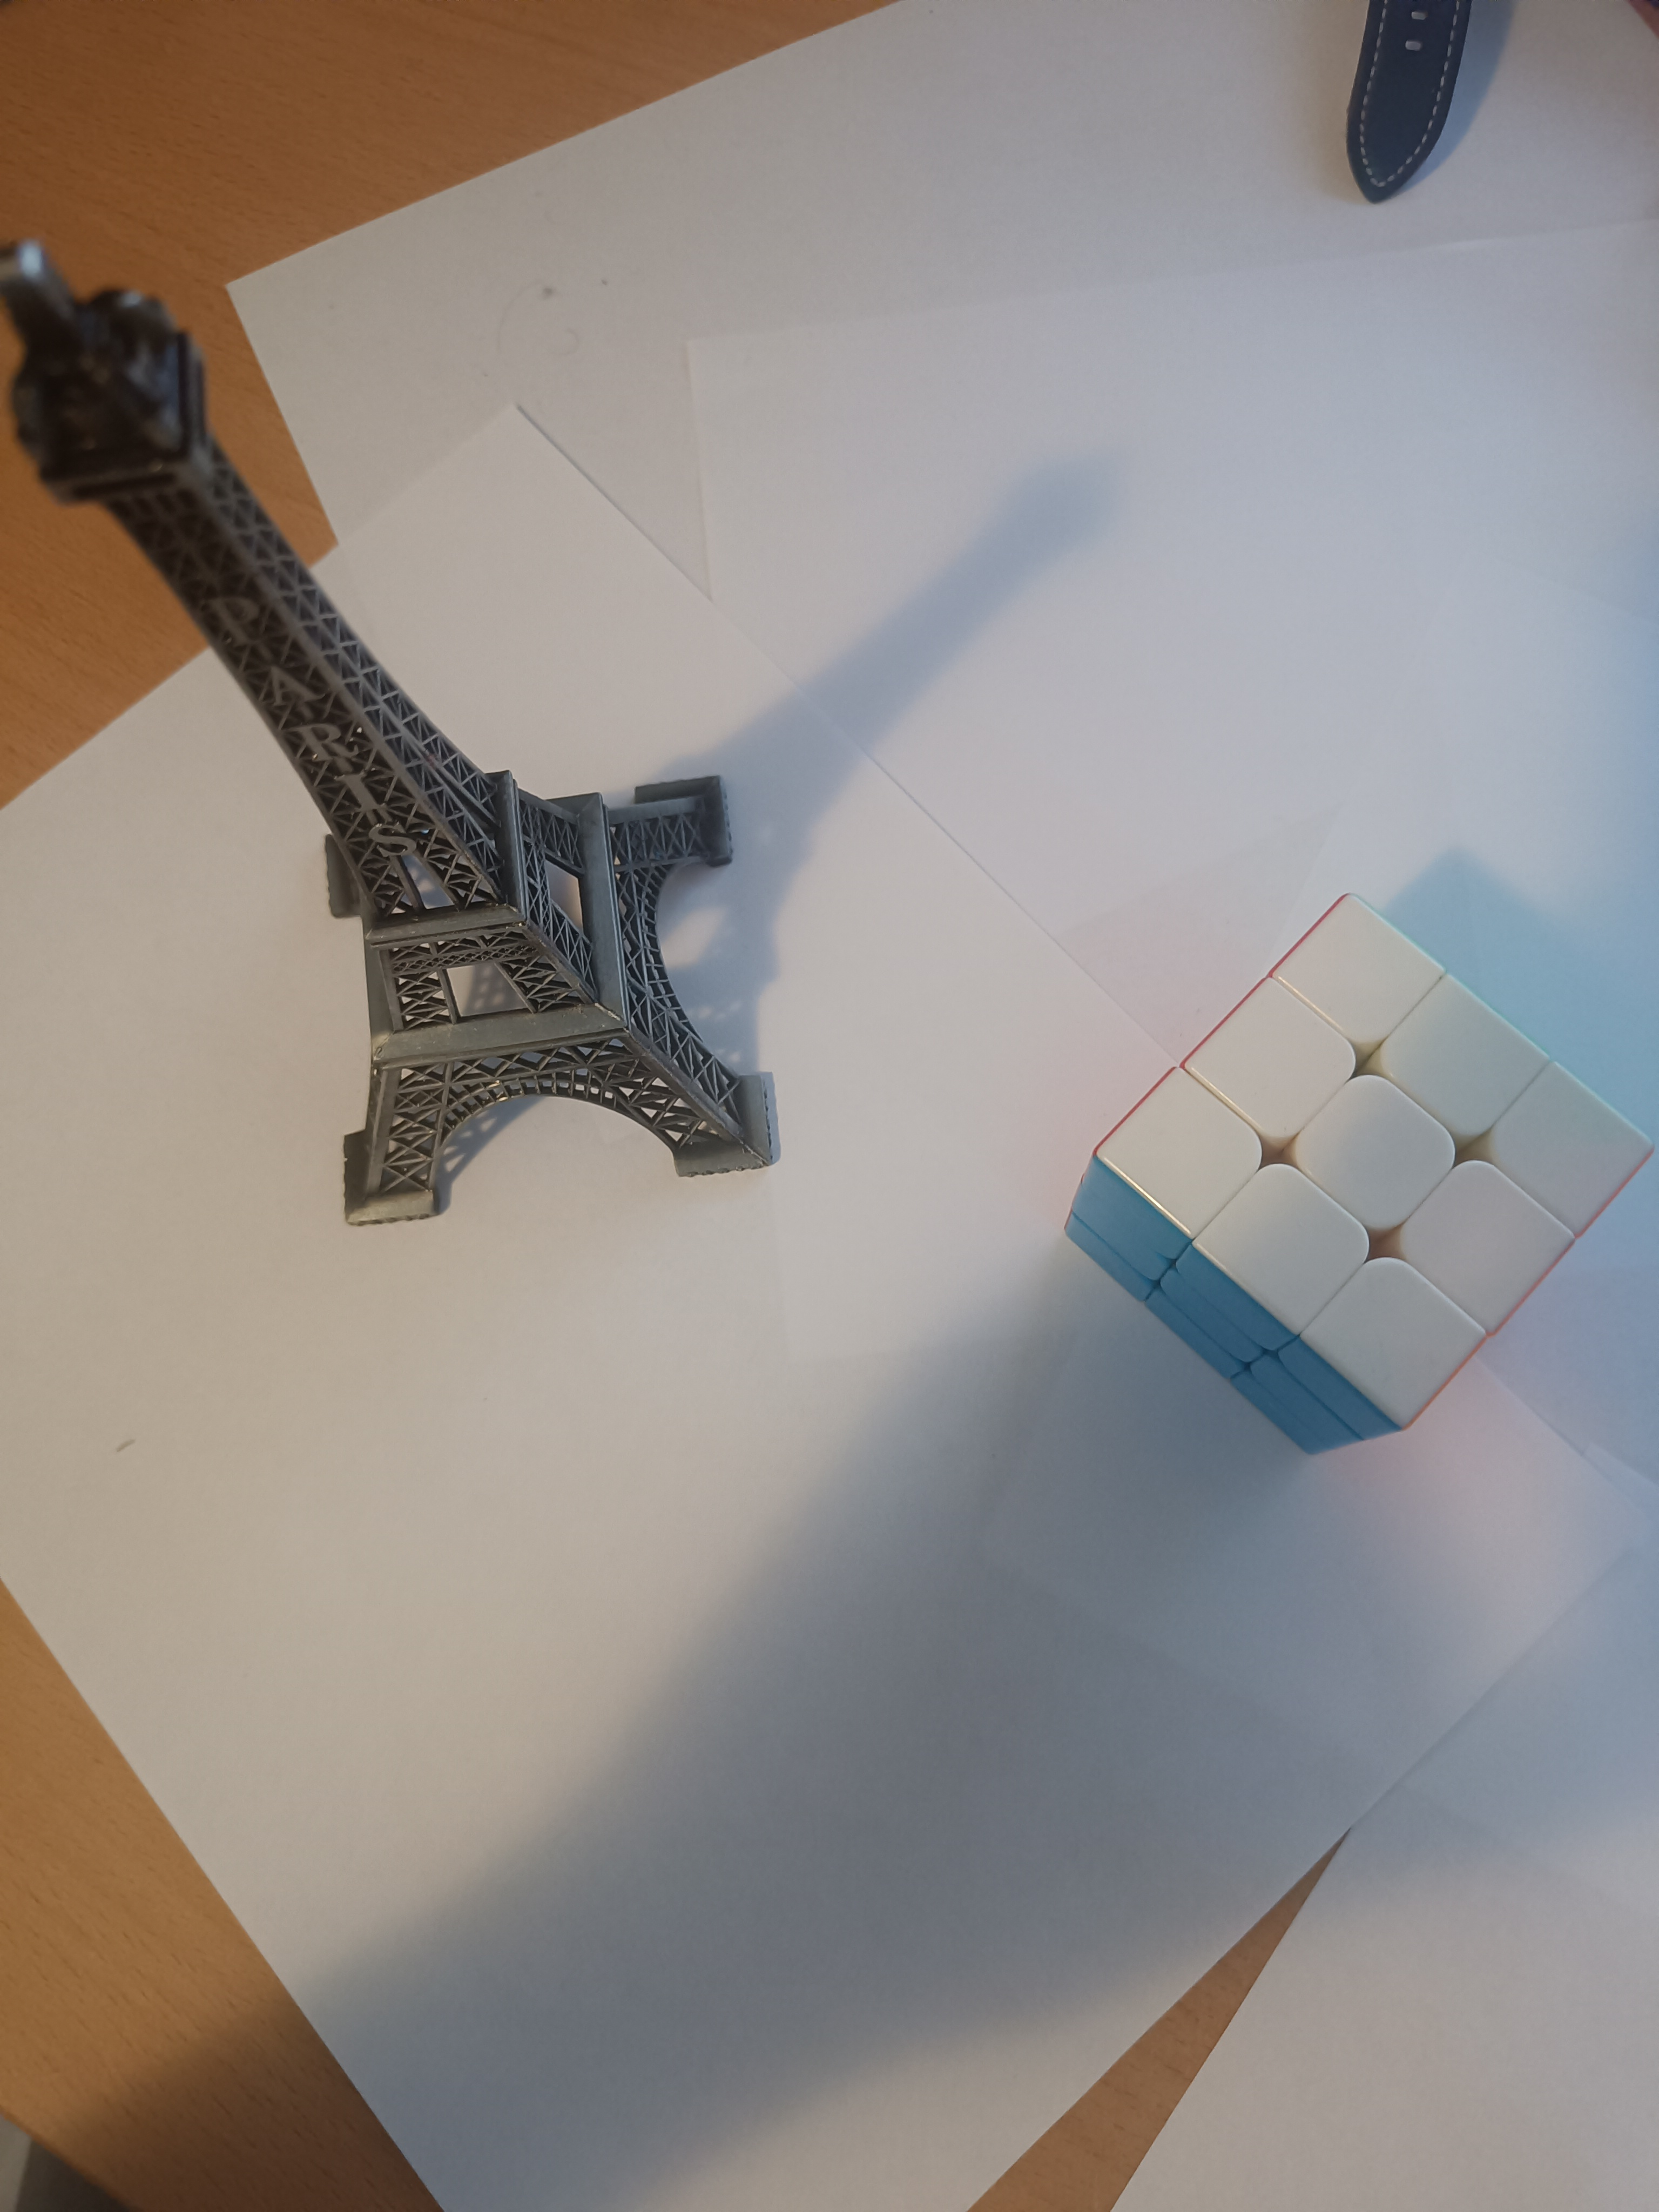Eiffel Tower: (0, 224, 770, 1244)
Rubiks Cube: (1051, 859, 1655, 1494)
